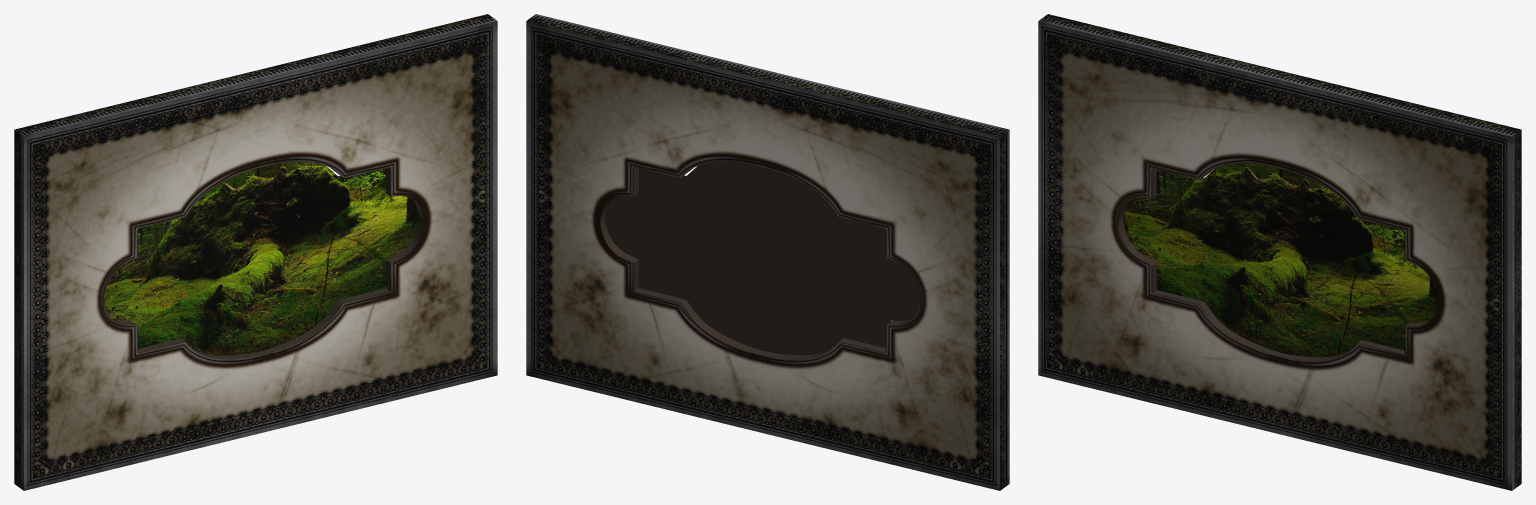
File: Frame_09.FBX
3 views of the same model, side by side, from view 1: azimuth 30°, elevation 25°; view 2: azimuth 150°, elevation 25°; view 3: azimuth 330°, elevation 25° (orthographic).
Parts seen in each view (by area): view 1: Frame_09; view 2: Frame_09; view 3: Frame_09.
Part boxes in pixels (bbox=[...]): Frame_09: bbox=[14, 14, 497, 490]; Frame_09: bbox=[526, 14, 1009, 490]; Frame_09: bbox=[1038, 14, 1521, 490].
Bounding box in the file's own units: 1008 × 36 × 720.
